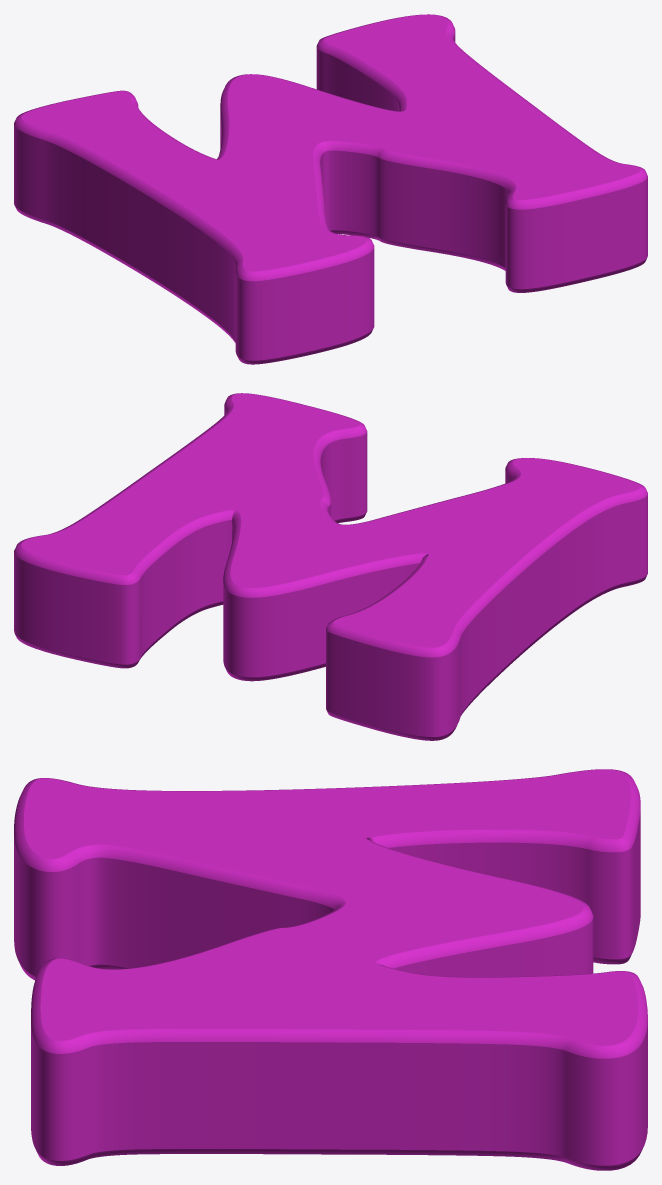
File: Bubble_LetterM.fbx
3 views of the same model, one above another, from view 1: azimuth 30°, elevation 25°; view 2: azimuth 150°, elevation 25°; view 3: azimuth 270°, elevation 25° (orthographic). The views are drawn at different scales.
Visible parts, largest first — view 1: BubbleLetter_M; view 2: BubbleLetter_M; view 3: BubbleLetter_M.
Part boxes in pixels (x1,y1,x2,y2): BubbleLetter_M: (14,14,647,364); BubbleLetter_M: (14,393,647,740); BubbleLetter_M: (14,769,647,1170).
Bounding box in the file's own units: 0.6843 × 0.14 × 0.6445.
